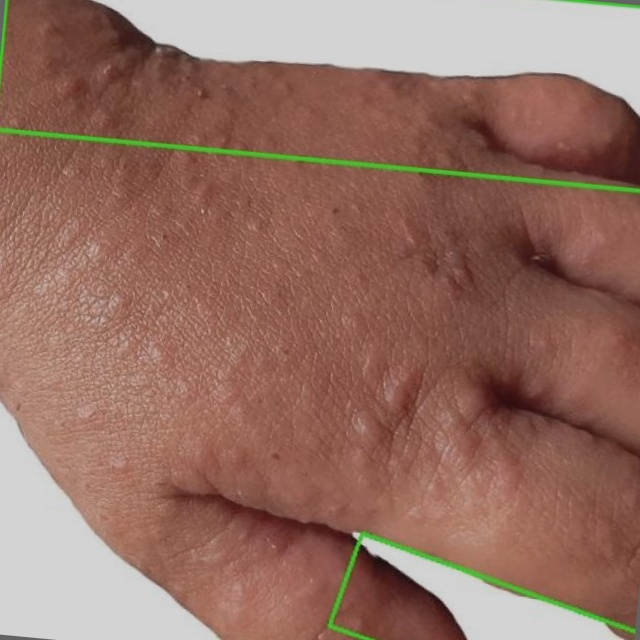Contact Dermatitis: (0, 0, 639, 190), (328, 530, 637, 639)
